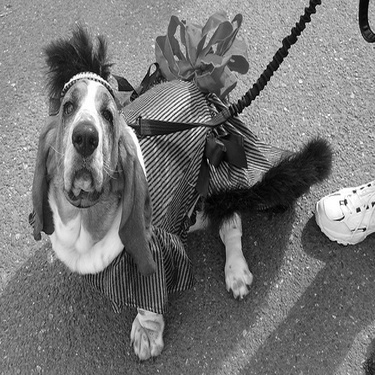dog: (20, 21, 337, 363)
